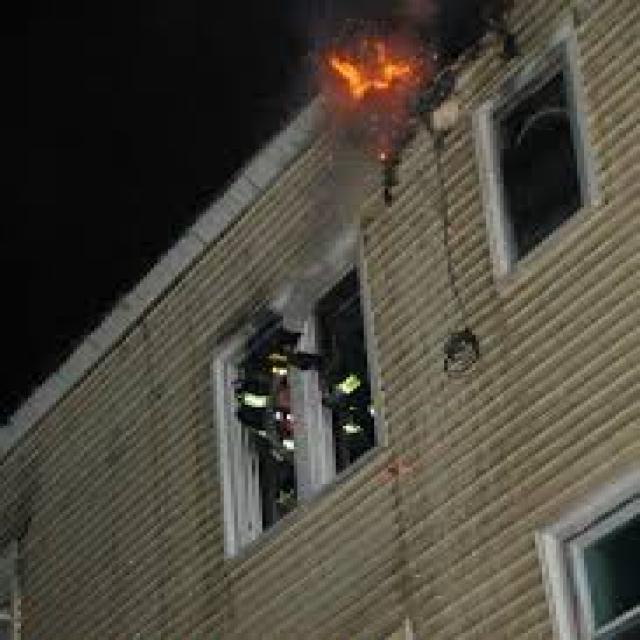Fire: (333, 44, 421, 112)
